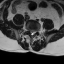CCS_normal: (31, 29, 33, 36)
LFS_severe_stenosis: (35, 29, 37, 34)
LLS_normal: (33, 30, 35, 35)
RFS_severe_stenosis: (28, 28, 30, 32)
RLS_normal: (30, 29, 31, 36)
